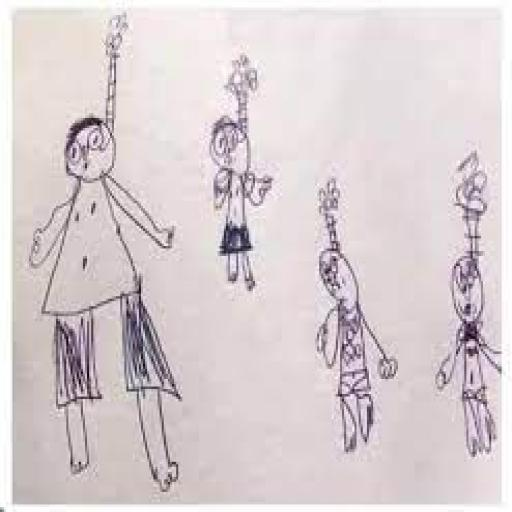person: (16, 14, 204, 498), (305, 166, 412, 464), (427, 140, 512, 467), (192, 46, 298, 305)
